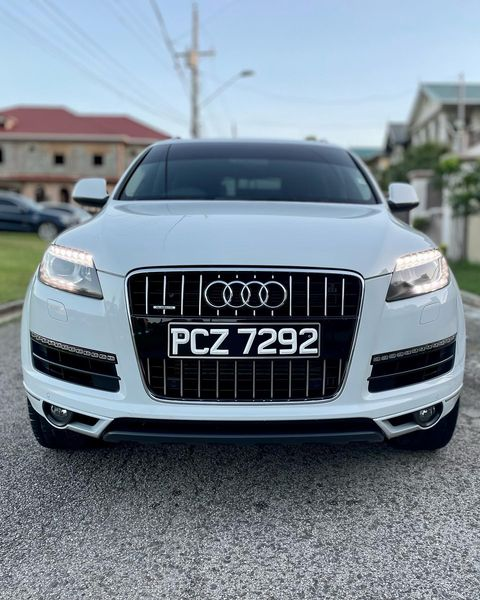License-Plate: (169, 323, 319, 356)
